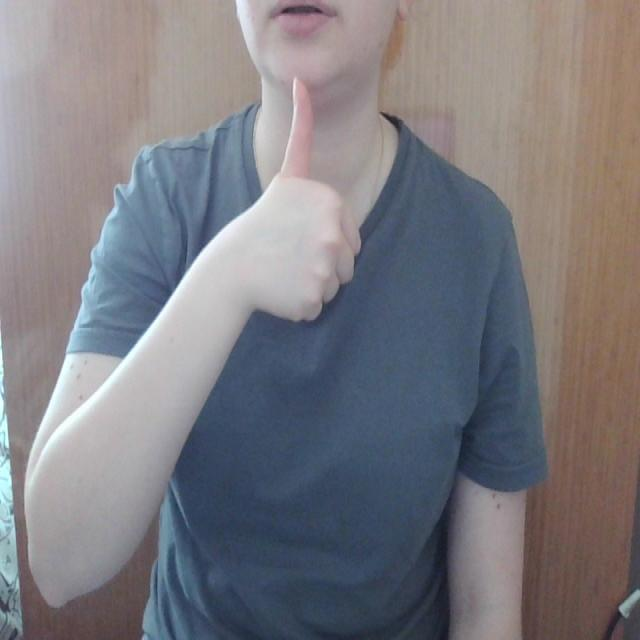Baba: (256, 0, 348, 154)
